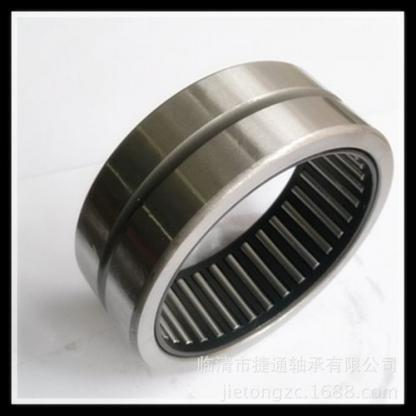FOD: (69, 48, 394, 379)
